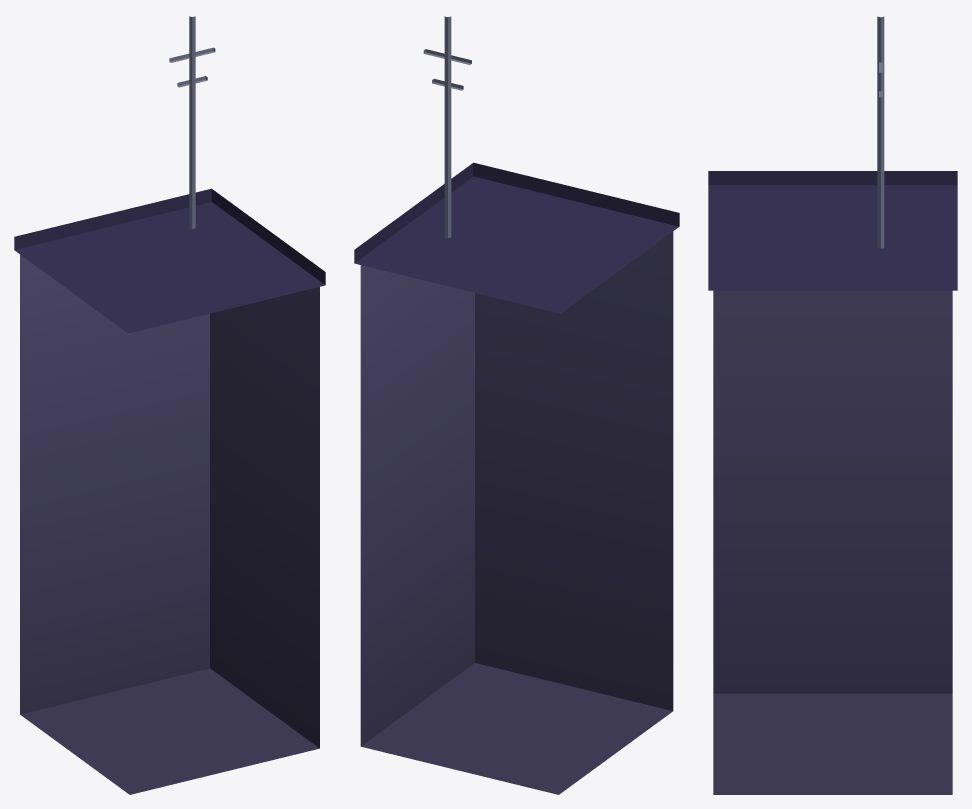
File: hop_tower_a.glb
The picture shows the model from 3 angles, left to right: view 1: azimuth 30°, elevation 25°; view 2: azimuth 150°, elevation 25°; view 3: azimuth 270°, elevation 25°; orthographic projection. The views are drawn at different scales.
Parts seen in each view (by area): view 1: hop_tower_a; view 2: hop_tower_a; view 3: hop_tower_a.
Part boxes in pixels (bbox=[...]): hop_tower_a: bbox=[14, 16, 325, 794]; hop_tower_a: bbox=[354, 16, 679, 794]; hop_tower_a: bbox=[708, 16, 957, 794].
Bounding box in the file's own units: 3.12 × 10.4 × 3.12.
